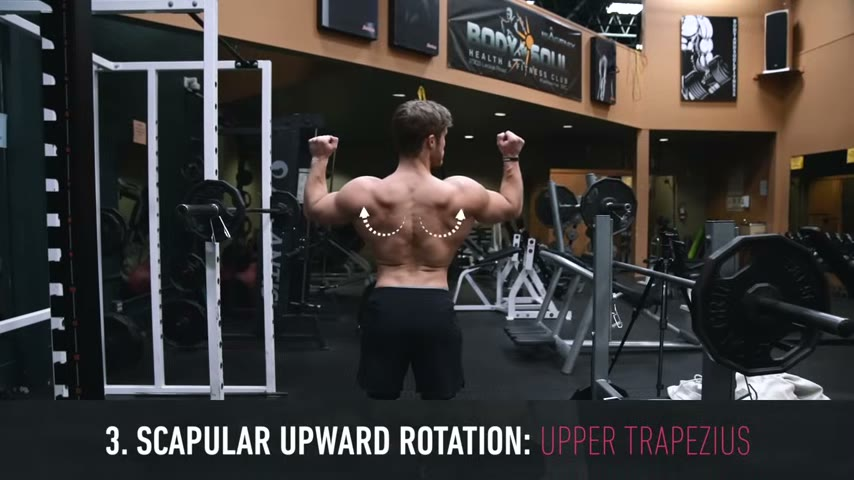barbell_plate_side: (800, 218, 854, 410)
